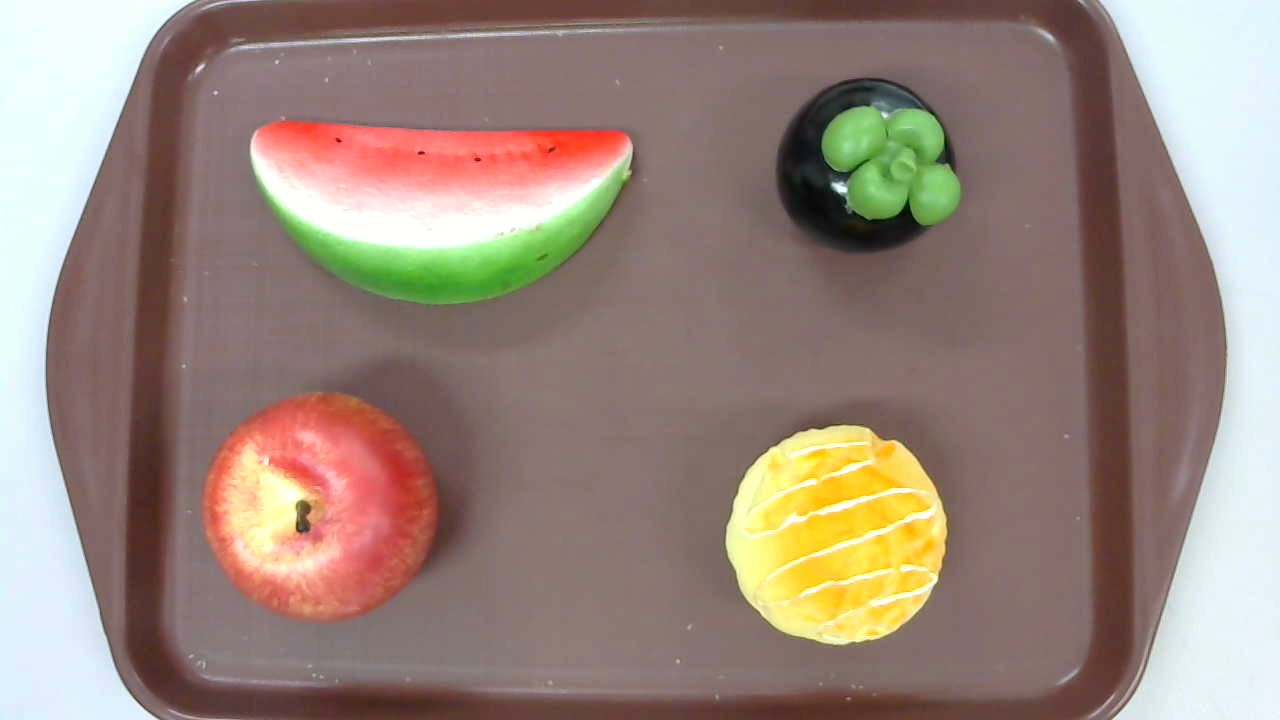cupcake: (724, 423, 948, 645)
mangosteen: (775, 75, 962, 254)
red apple: (199, 391, 439, 622)
watermelon: (249, 120, 635, 307)
